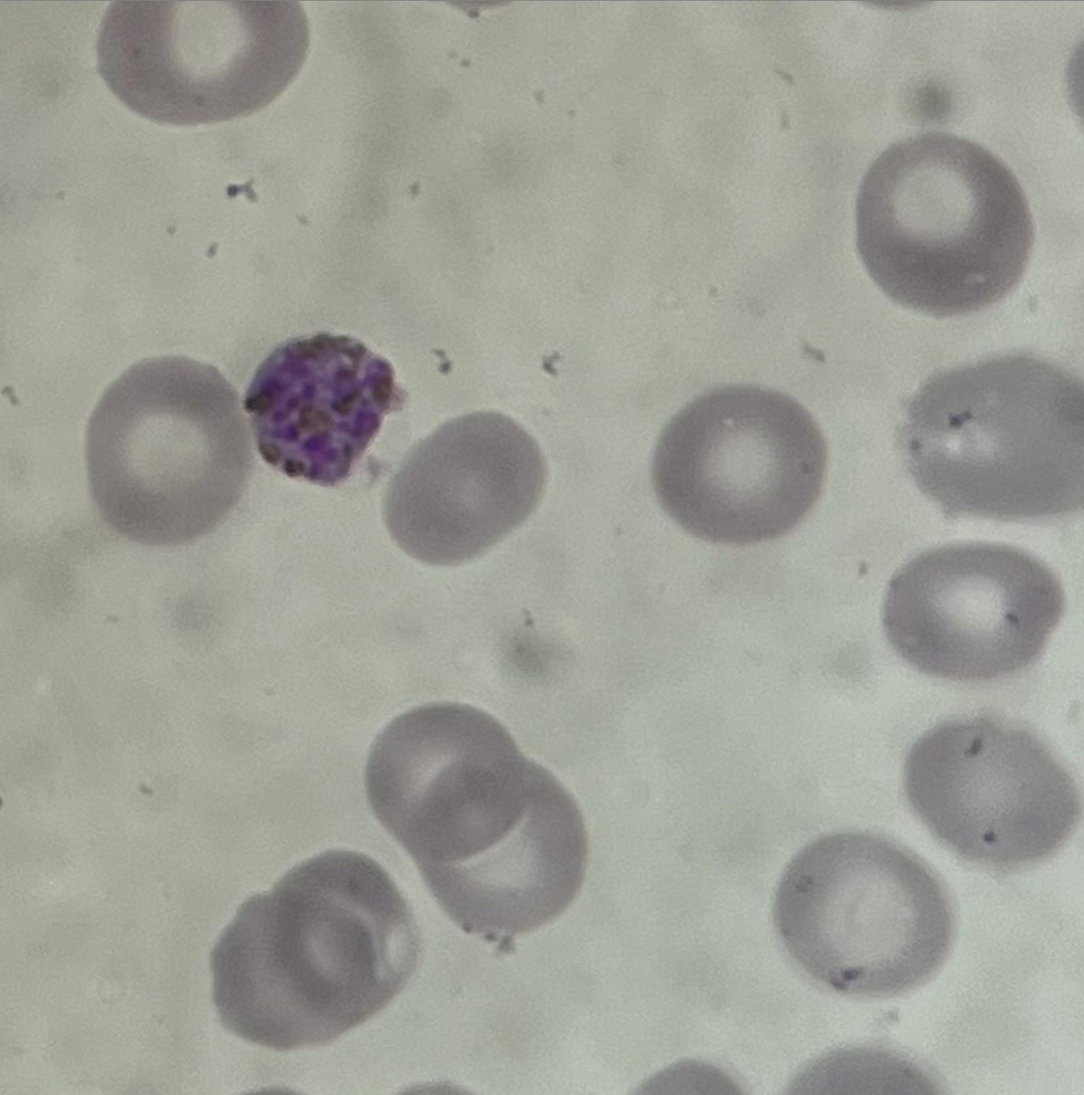Infected: (242, 330, 407, 485)
Uninfected: (364, 701, 586, 943), (211, 855, 415, 1049), (850, 130, 1034, 312), (79, 355, 252, 544), (654, 378, 834, 547), (770, 832, 949, 997), (904, 352, 1080, 519), (901, 717, 1074, 869), (381, 411, 546, 567), (880, 544, 1059, 680)
